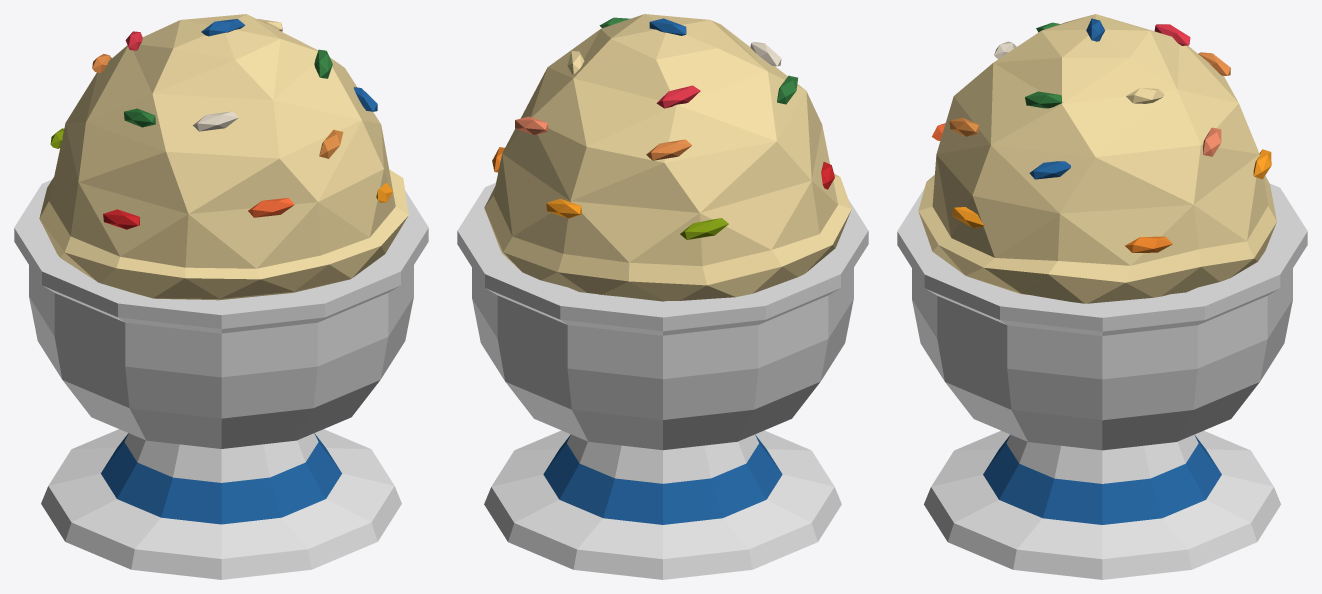
File: Ice_Cream_Sprinkles_Cup.fbx
3 renders of one model, left to right at view 1: azimuth 30°, elevation 25°; view 2: azimuth 150°, elevation 25°; view 3: azimuth 270°, elevation 25°, orthographic.
Visible parts, largest first — view 1: Ice_Cream_Sprinkles_Cup; view 2: Ice_Cream_Sprinkles_Cup; view 3: Ice_Cream_Sprinkles_Cup.
Part boxes in pixels (<box>): Ice_Cream_Sprinkles_Cup: <box>14,14,428,579</box>; Ice_Cream_Sprinkles_Cup: <box>457,14,868,579</box>; Ice_Cream_Sprinkles_Cup: <box>897,14,1307,579</box>.
Size of the model in its own units: 10.84 by 13.99 by 10.84.
